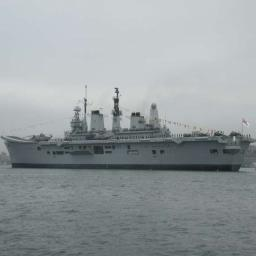Portanaves: (3, 84, 254, 174)
